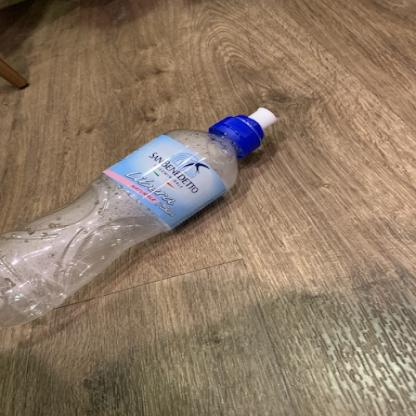trash: (0, 104, 284, 330)
